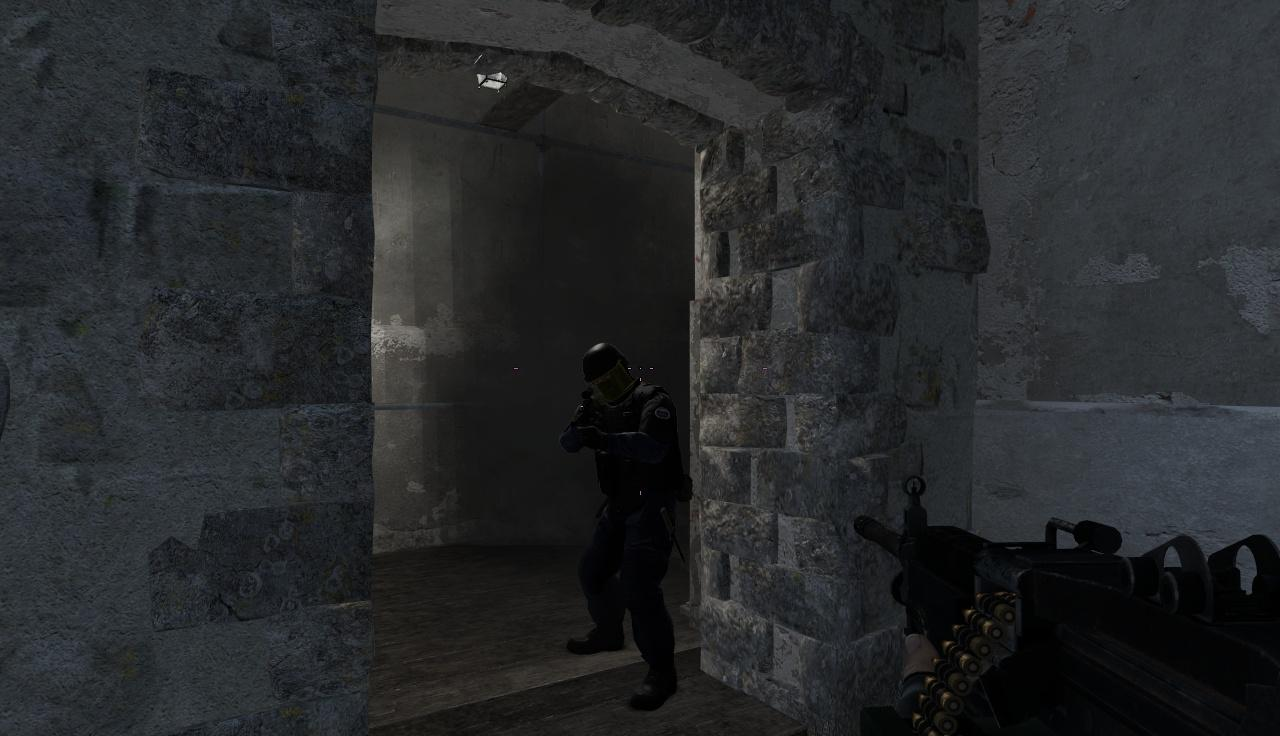ct: (570, 347, 675, 696)
cthead: (584, 344, 633, 401)
rifle: (858, 482, 1280, 736)
